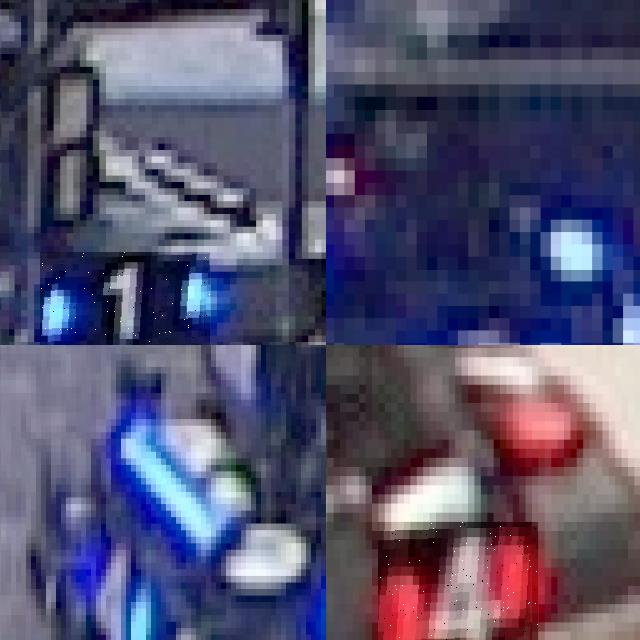B1: (40, 252, 210, 345)
B3: (396, 306, 561, 345)
B4: (76, 536, 156, 640)
R4: (378, 521, 538, 640)
